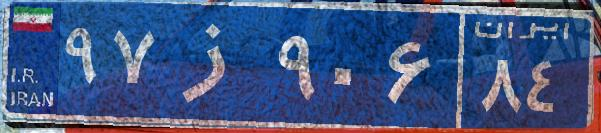0: (330, 28, 385, 110)
4: (525, 38, 570, 115)
6: (385, 28, 445, 110)
7: (110, 28, 158, 105)
8: (475, 38, 525, 113)
9: (273, 28, 330, 110), (57, 26, 110, 107)
ز: (158, 15, 273, 115)
